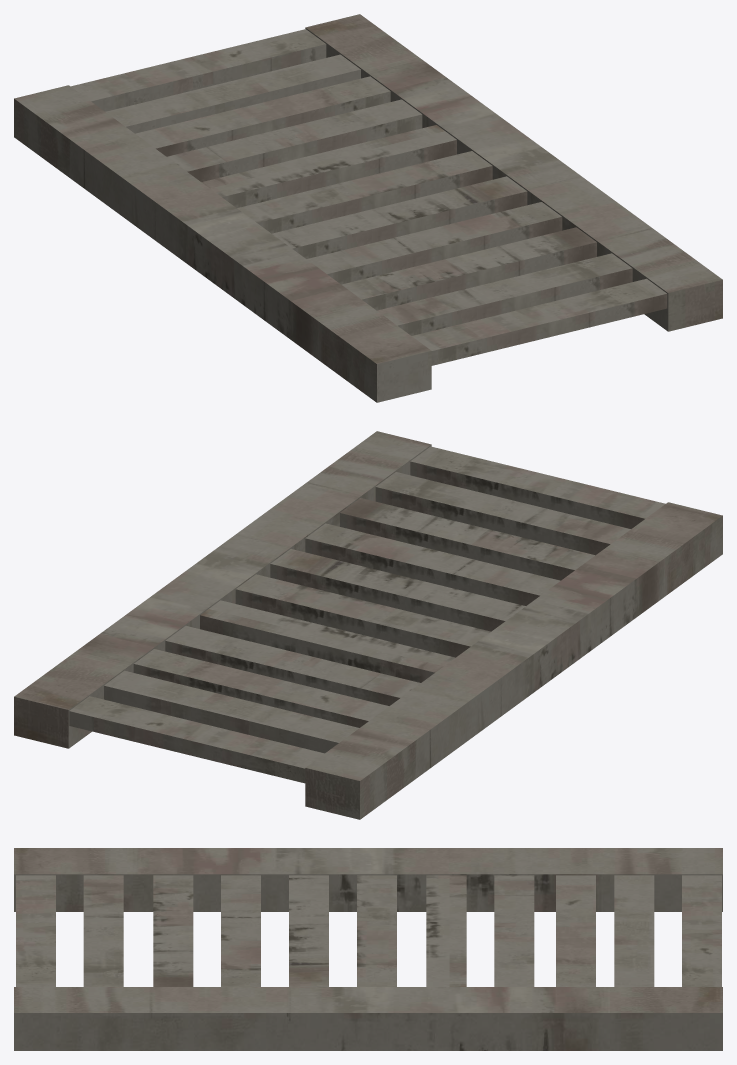
The model's file is waterspout_01.fbx.
3 renders of one model, top to bottom at view 1: azimuth 30°, elevation 25°; view 2: azimuth 150°, elevation 25°; view 3: azimuth 270°, elevation 25°, orthographic. The views are drawn at different scales.
Parts seen in each view (by area): view 1: Box060; view 2: Box060; view 3: Box060.
Boxes of the visible parts, x1,y1,x2,y2 form: Box060: (14,14,722,402); Box060: (14,431,722,819); Box060: (14,848,722,1050).
Size of the model in its own units: 97.82 by 10.45 by 178.
